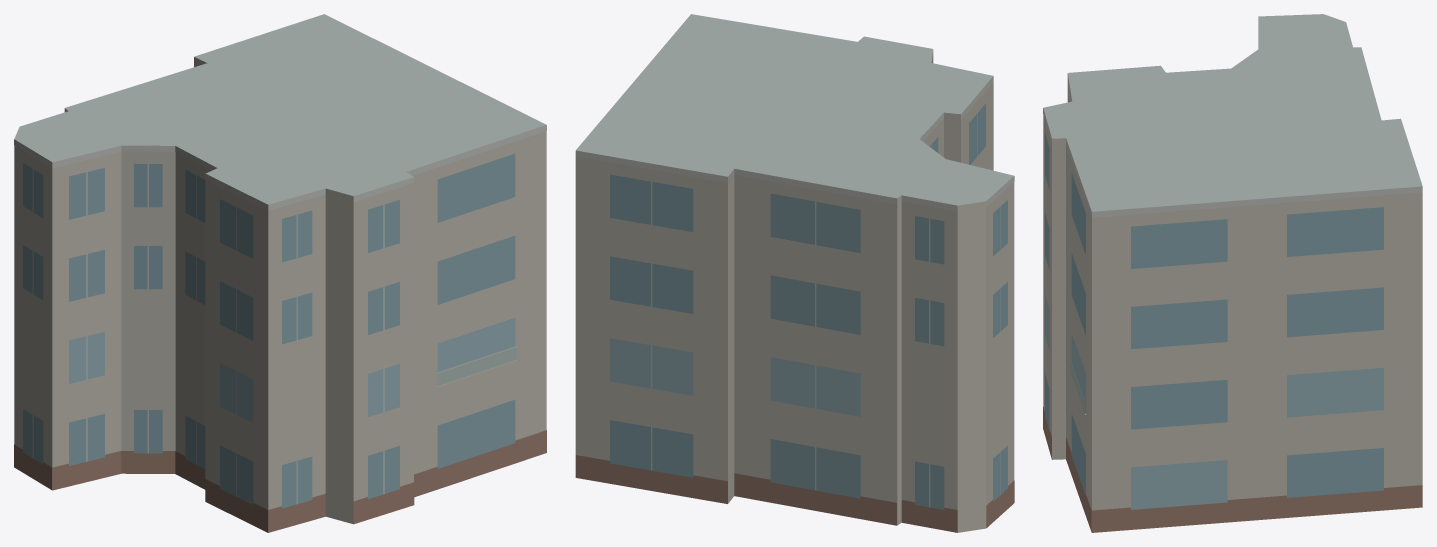
The model's file is survey-upis-32630572.glb.
The picture shows the model from 3 angles, left to right: view 1: azimuth 30°, elevation 25°; view 2: azimuth 150°, elevation 25°; view 3: azimuth 270°, elevation 25°; orthographic projection. The views are drawn at different scales.
Parts seen in each view (by area): view 1: survey-upis-32630572.tmp; view 2: survey-upis-32630572.tmp; view 3: survey-upis-32630572.tmp.
Part boxes in pixels (x1,y1,x2,y2): survey-upis-32630572.tmp: [14, 14, 546, 532]; survey-upis-32630572.tmp: [575, 14, 1014, 532]; survey-upis-32630572.tmp: [1043, 14, 1422, 532].
Size of the model in its own units: 17.45 by 13.2 by 14.15.
